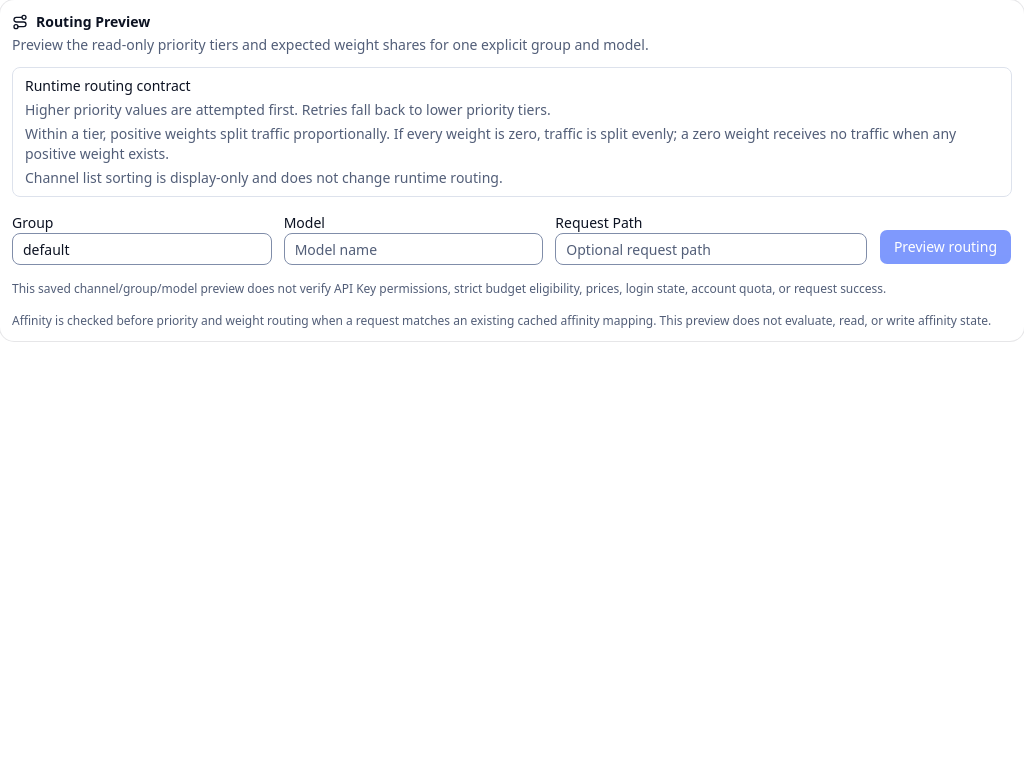
Scenario: account scheduling preview › a configured snapshot explains bounds, separate legacy timeout, and unevaluated success-only affinity
This screenshot has width=1024, height=768.
Type "public-model" into the field named "Routing preview model" at (413, 249), box 284,233 -> 543,265
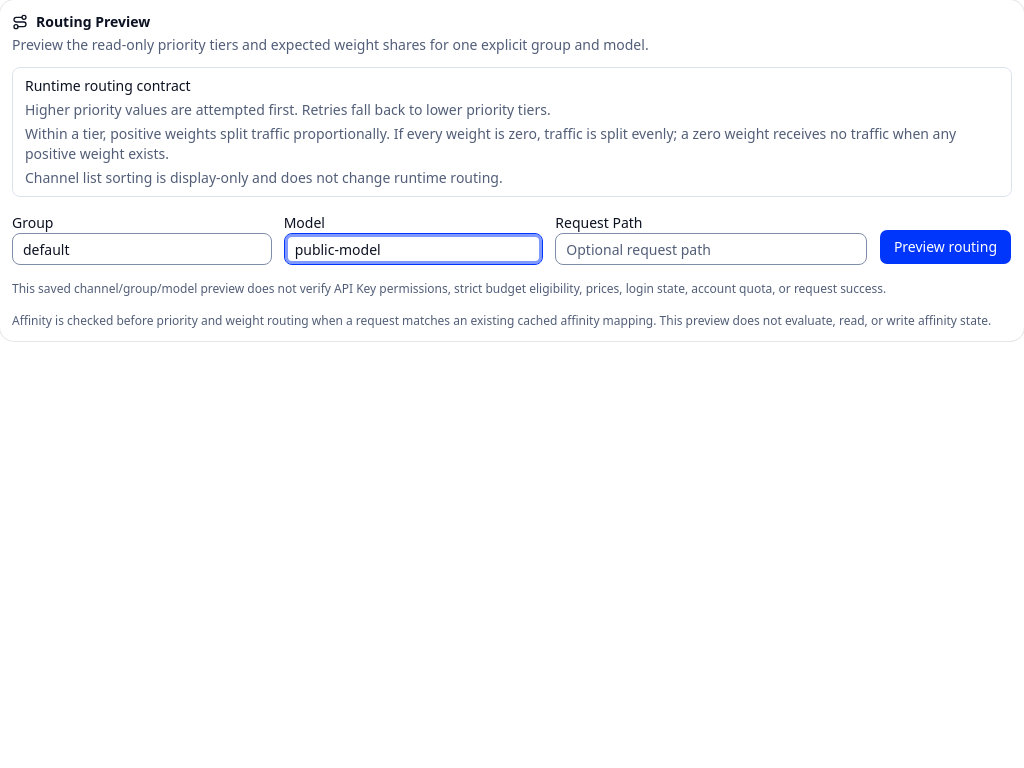
Click the button "Preview routing" at (945, 247), box 879,229 -> 1012,265
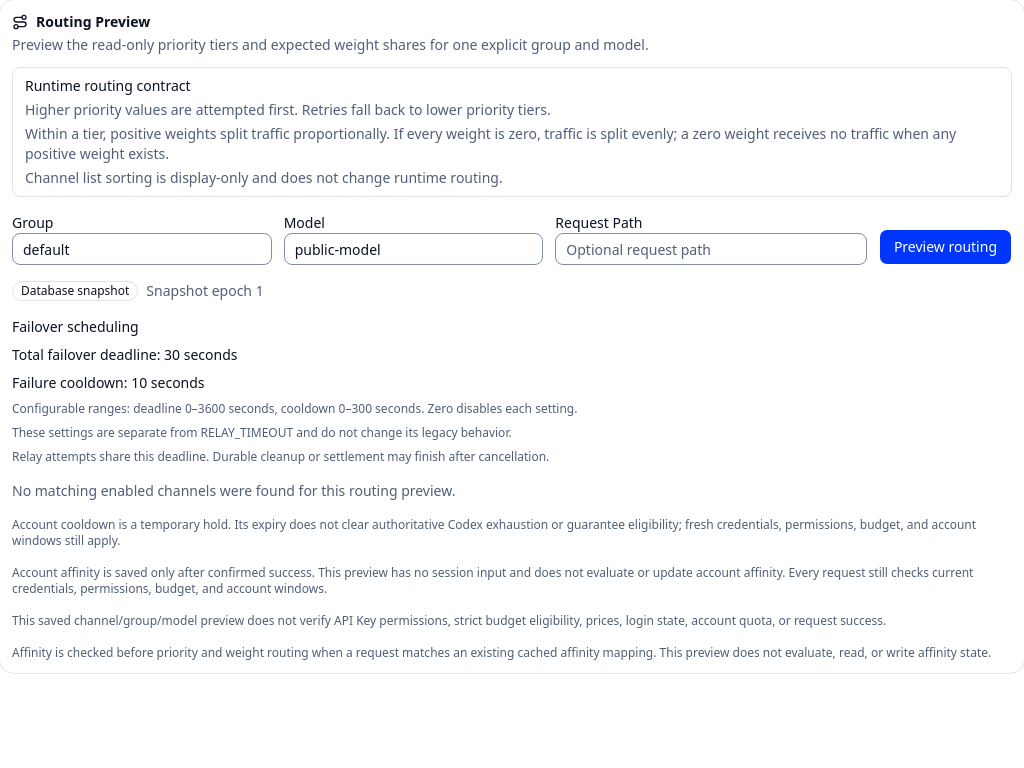
Check: the text "Total failover deadline: 30 seconds" is shown, box 12,345 -> 238,364
Check: the text "Failure cooldown: 10 seconds" is shown, box 12,373 -> 205,392
Check: the text "separate from RELAY_TIMEOUT" is shown, box 12,424 -> 512,441
